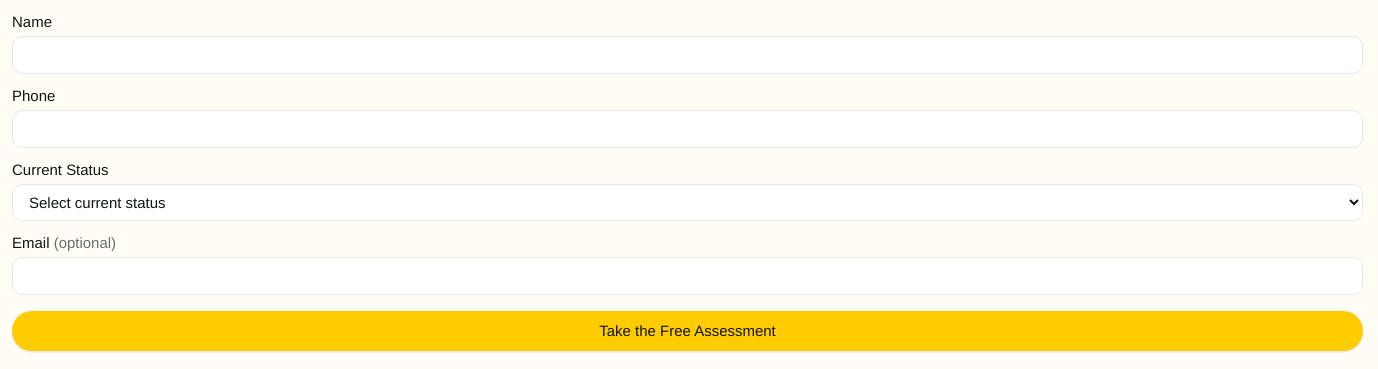
Test: AssessmentForm › disables the submit button after the first click to prevent duplicate leads
In the field labelled "Name": x=688, y=55 [12,36,1363,74], type "Diya Shah"
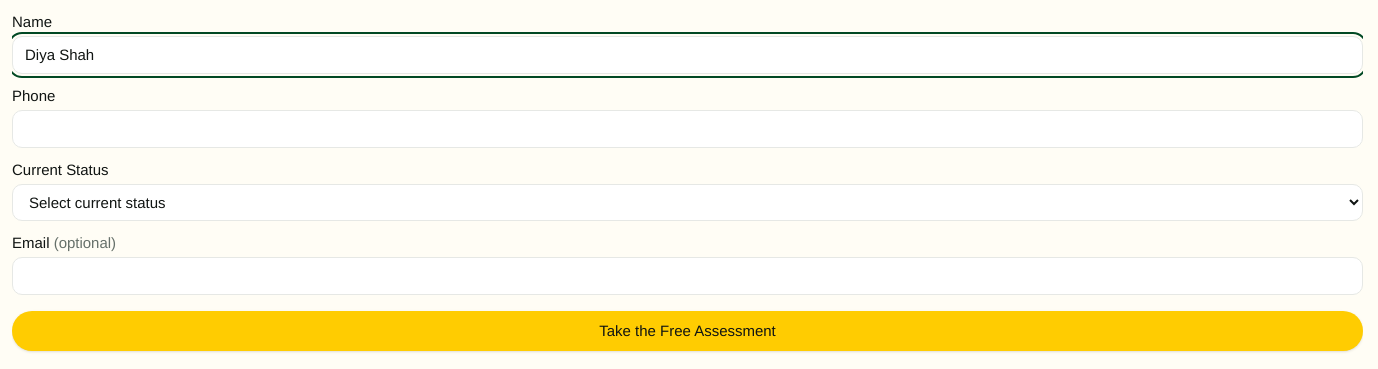
In the field labelled "Phone": x=688, y=129 [12,110,1363,148], type "9876543210"
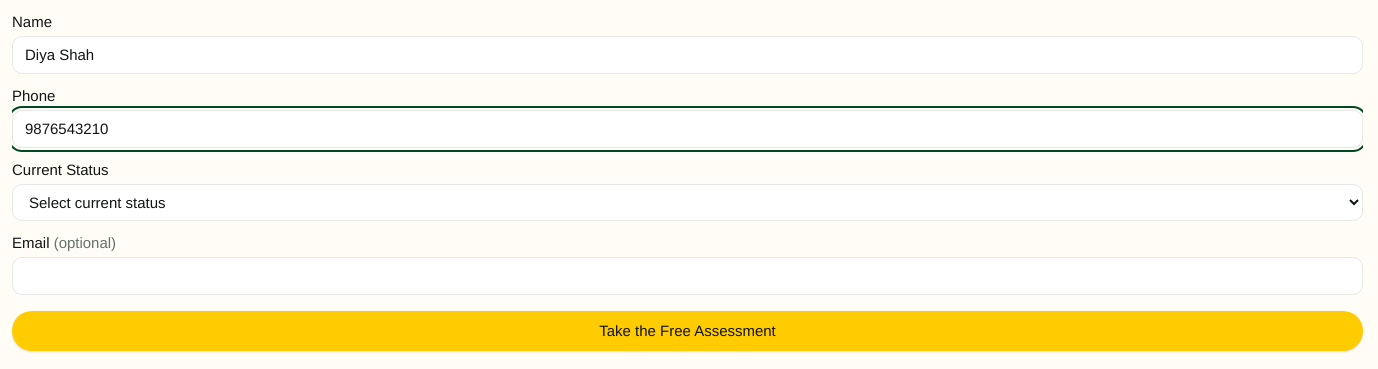
Select "Class 12" in the dropdown labelled "Current Status": x=688, y=202 [12,184,1363,221]
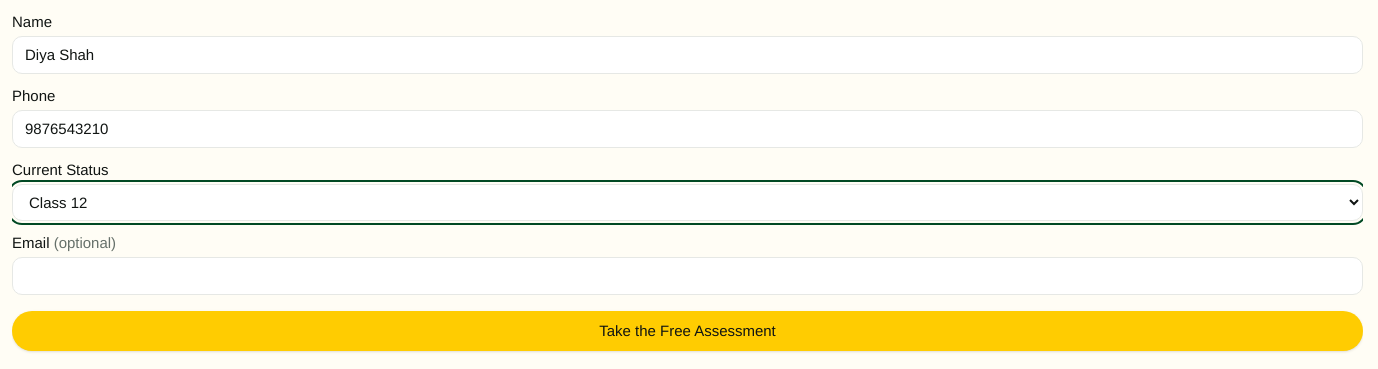
Click the button "Take the Free Assessment": x=688, y=331 [12,311,1363,351]
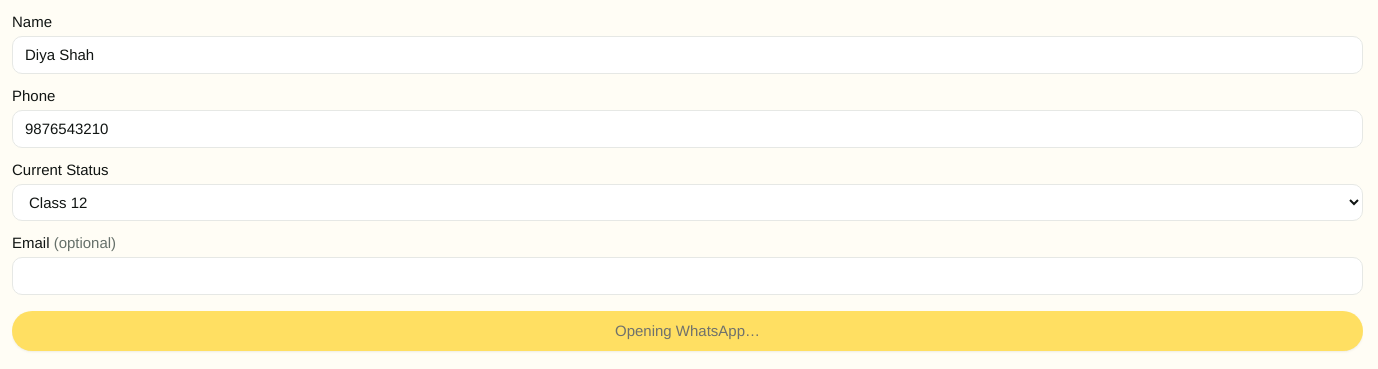
Expected: the button named "take the free assessment" is disabled, [12,311,1363,351]
